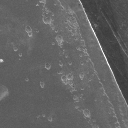corrosion: (60, 74, 74, 87), (41, 13, 53, 25), (53, 35, 64, 45), (77, 46, 88, 56), (82, 108, 92, 118), (24, 26, 33, 37), (38, 81, 47, 90), (43, 62, 52, 70), (67, 61, 74, 68), (47, 115, 54, 122), (23, 76, 30, 83), (78, 73, 85, 80), (18, 51, 23, 58), (14, 46, 19, 52), (1, 59, 4, 63)
